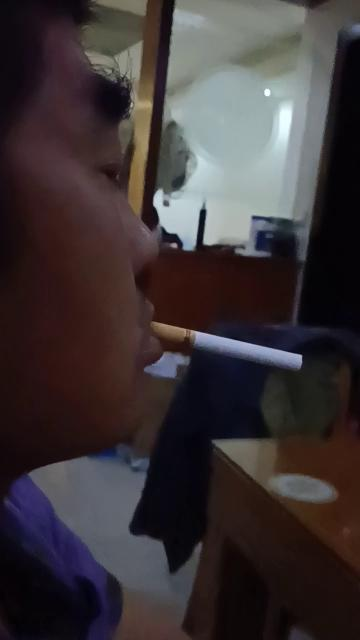Smoking: (149, 320, 305, 372)
